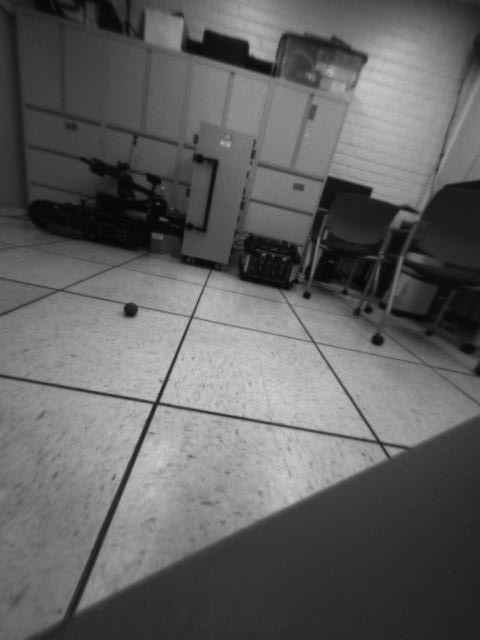dogtoy: (116, 295, 145, 324)
